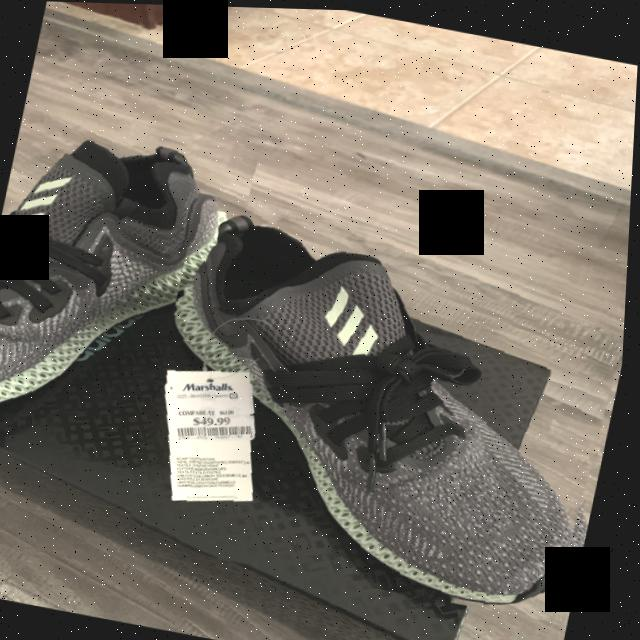shoe: (128, 191, 632, 622), (0, 99, 263, 480)
